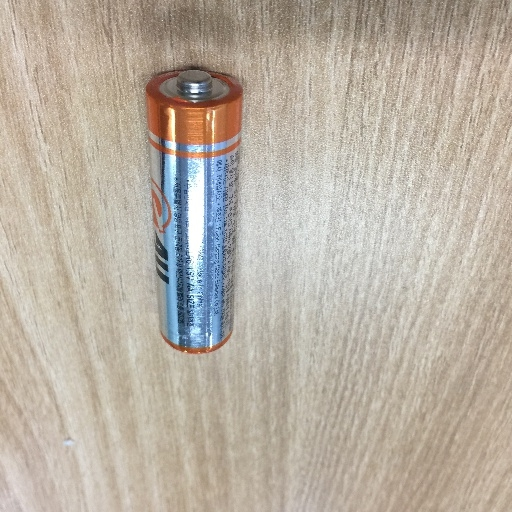Battery_0: (136, 54, 252, 365)
